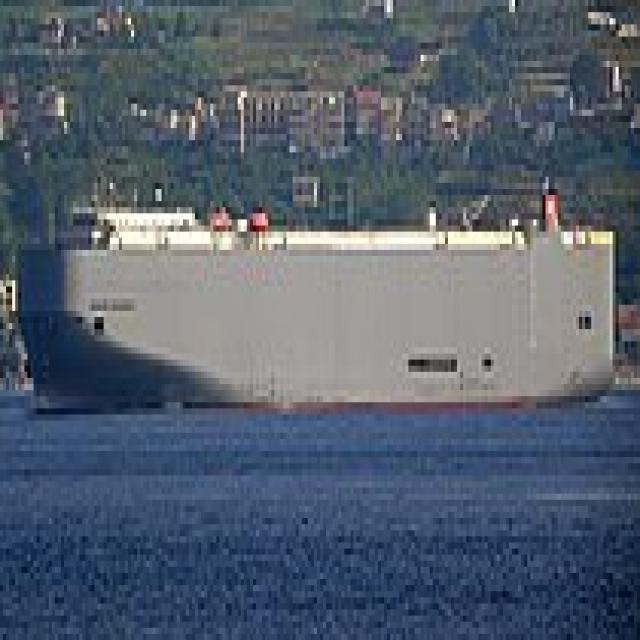Carrier: (6, 177, 616, 414)
